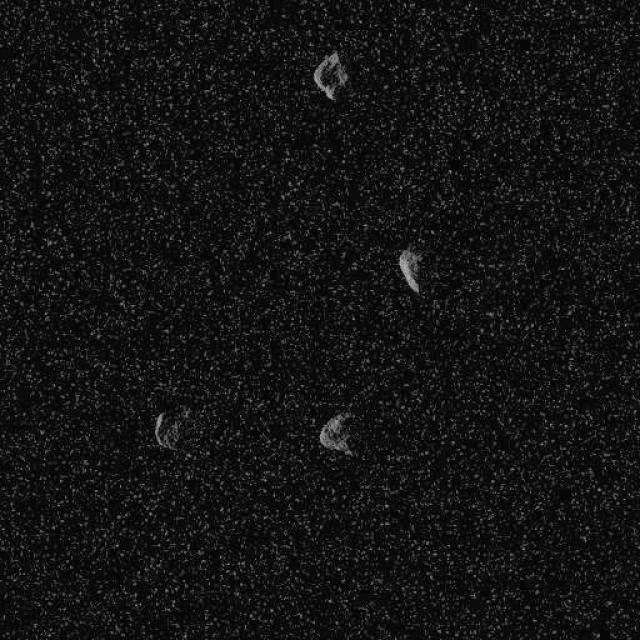D2: (312, 50, 348, 100), (318, 410, 357, 456), (396, 248, 422, 294), (152, 410, 180, 451)
